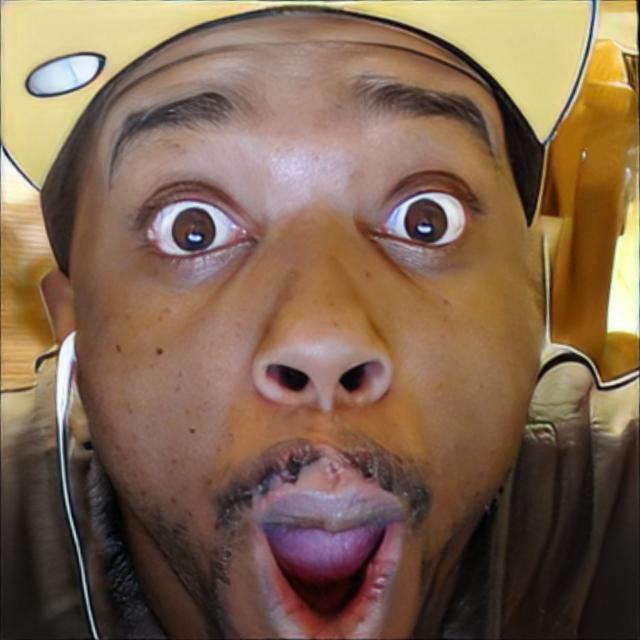surprise: (73, 9, 542, 640)
